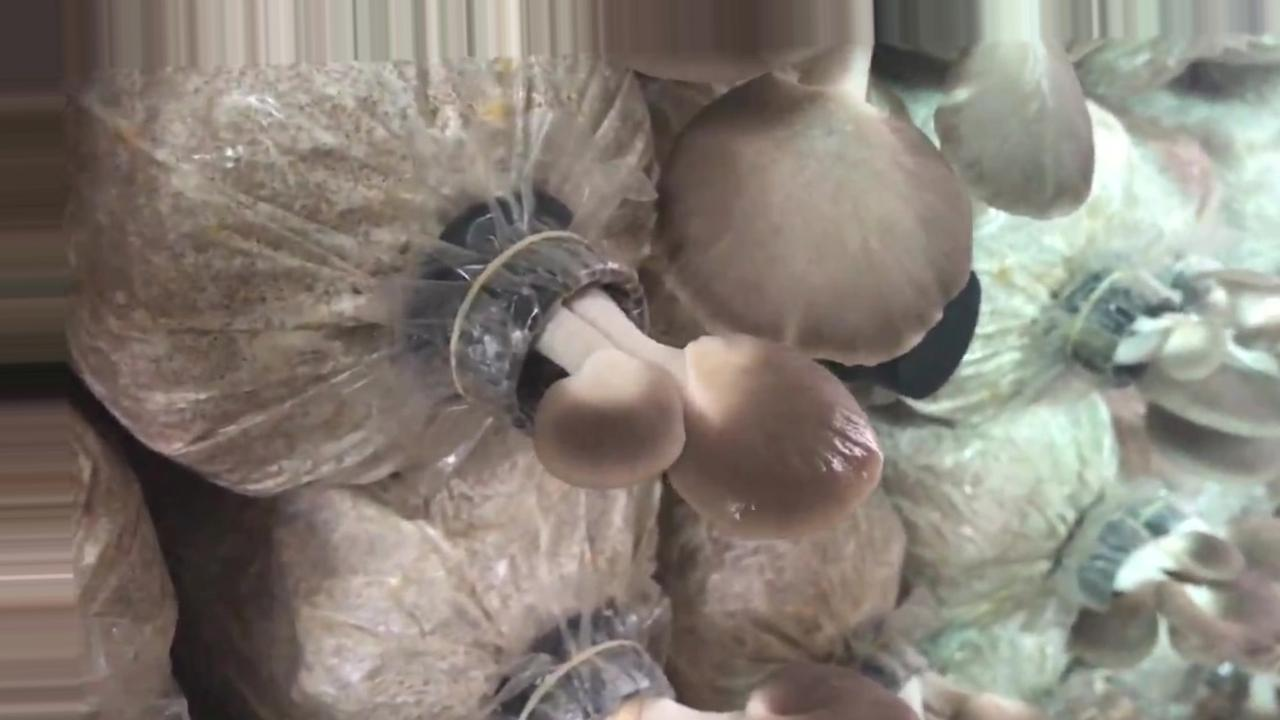nam: (603, 1, 1096, 374), (457, 212, 885, 550), (1060, 267, 1280, 486), (523, 613, 924, 720), (1063, 485, 1280, 676)
